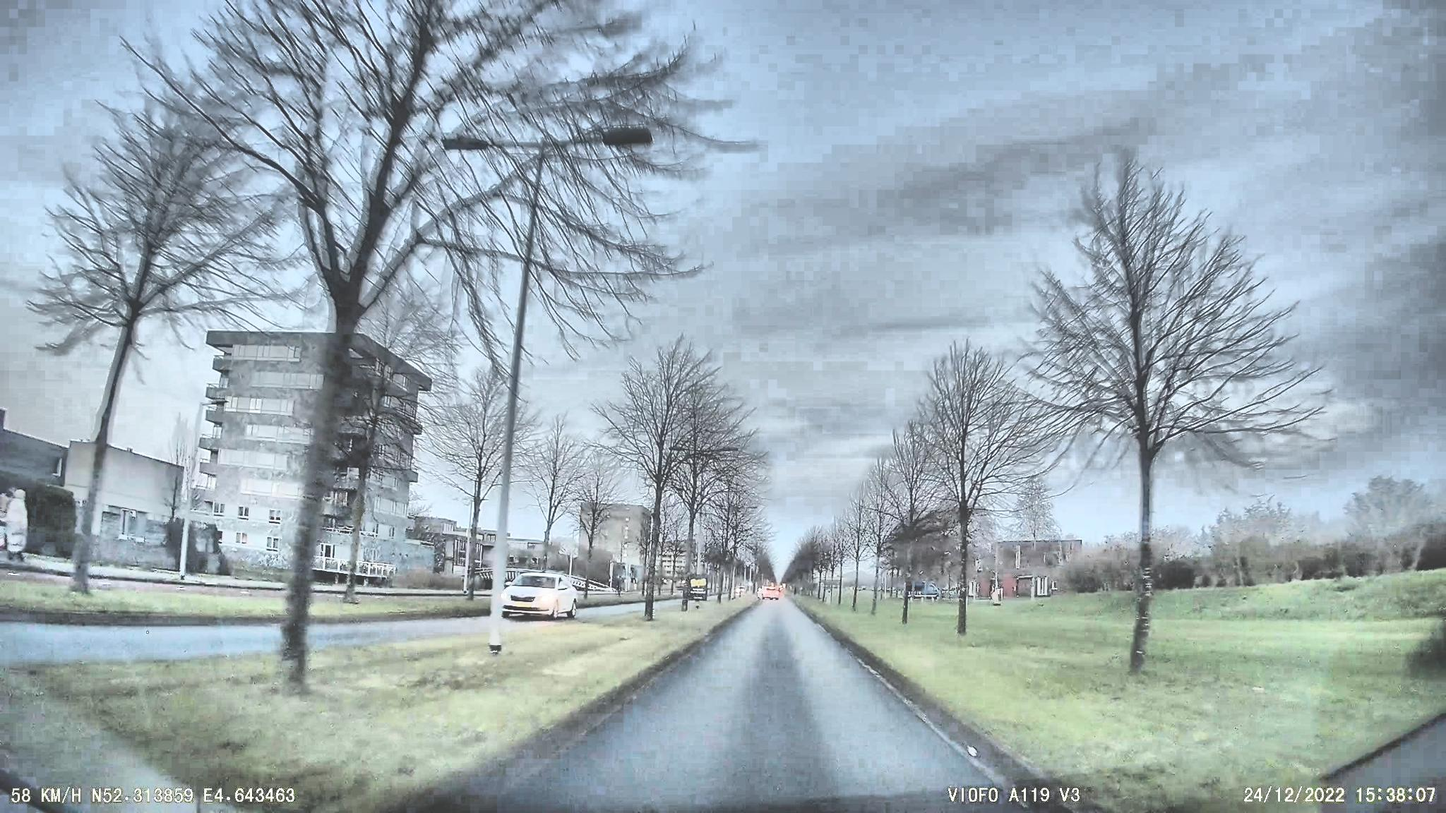Roads: (551, 595, 1016, 792)
